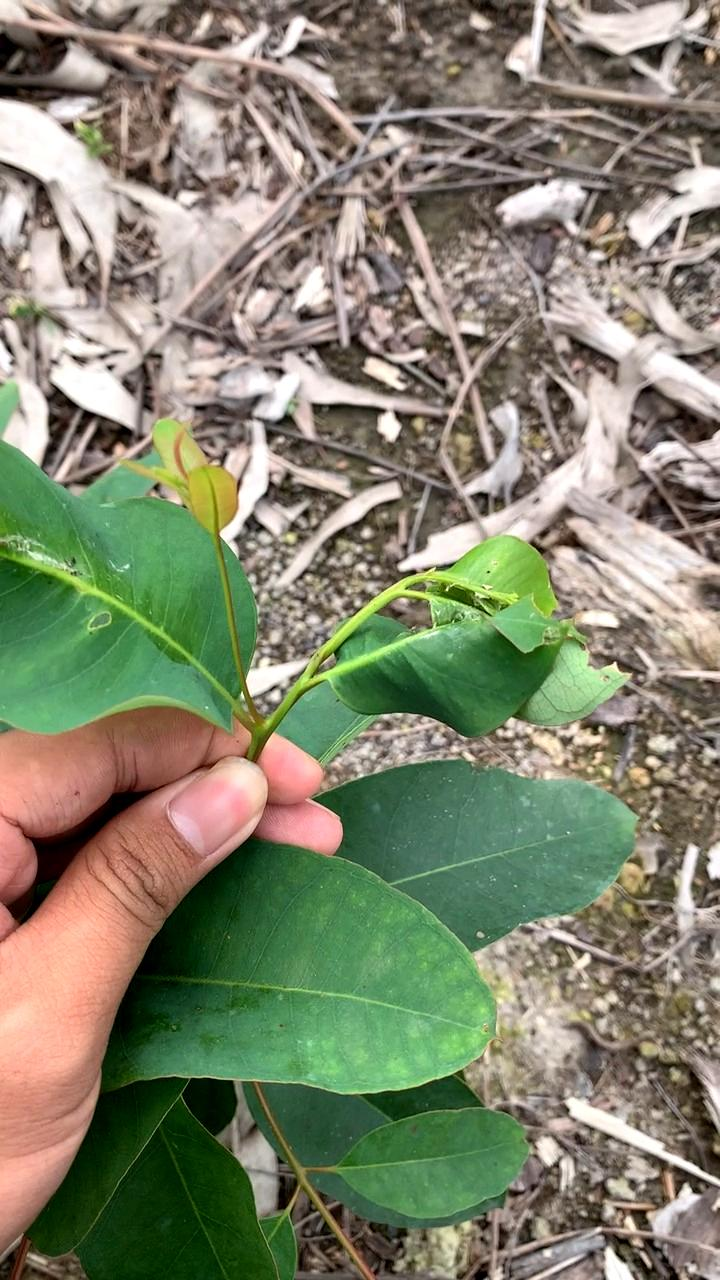Leaf Roller - Leaf: (323, 548, 640, 748)
